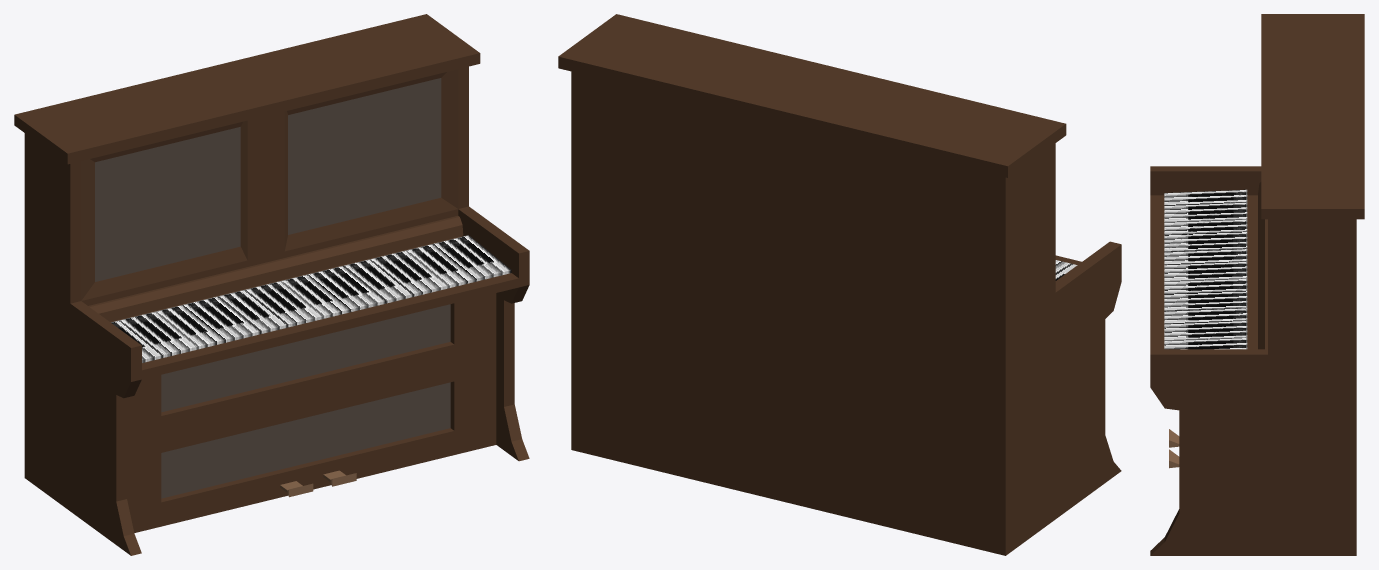
File: Piano.glb
3 views of the same model, side by side, from view 1: azimuth 30°, elevation 25°; view 2: azimuth 150°, elevation 25°; view 3: azimuth 270°, elevation 25° (orthographic). The views are drawn at different scales.
Visible parts, largest first — view 1: Piano2; view 2: Piano2; view 3: Piano2.
Boxes of the visible parts, x1=… form: Piano2: x1=14, y1=14, x2=529, y2=555; Piano2: x1=558, y1=14, x2=1121, y2=555; Piano2: x1=1150, y1=14, x2=1364, y2=555.
Size of the model in its own units: 3.44 by 2.89 by 1.6.
Materials: 2 (2 with a texture image).
